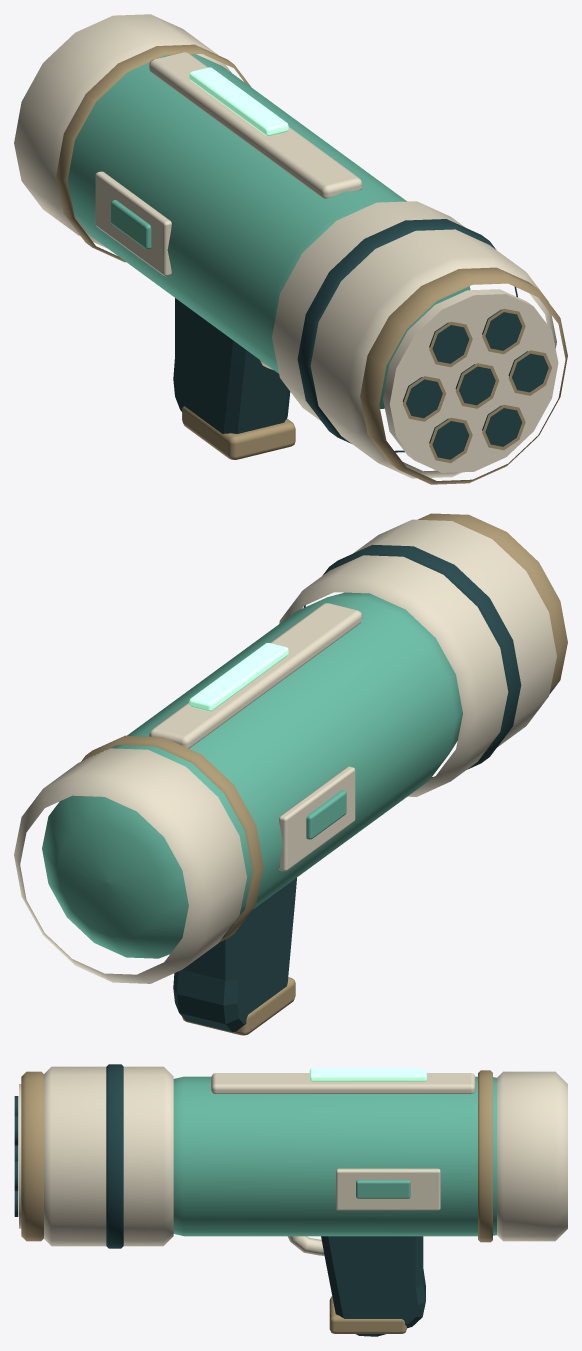
Rendered from steady.glb.
3 renders of one model, top to bottom at view 1: azimuth 30°, elevation 25°; view 2: azimuth 150°, elevation 25°; view 3: azimuth 270°, elevation 25°, orthographic. The views are drawn at different scales.
Parts seen in each view (by area): view 1: ceramic-mesh, mint-mesh, slate-mesh, edge-mesh, glow-mesh; view 2: mint-mesh, ceramic-mesh, slate-mesh, edge-mesh, glow-mesh; view 3: mint-mesh, ceramic-mesh, slate-mesh, edge-mesh, glow-mesh.
Part boxes in pixels (box(x1,y1,x2,y2)): ceramic-mesh: box(14, 14, 558, 478); mint-mesh: box(67, 54, 470, 408); slate-mesh: box(173, 219, 548, 459); edge-mesh: box(56, 44, 567, 484); glow-mesh: box(189, 67, 288, 135); mint-mesh: box(42, 592, 462, 958); ceramic-mesh: box(14, 519, 556, 983); slate-mesh: box(173, 544, 521, 1032); edge-mesh: box(81, 513, 567, 1035); glow-mesh: box(189, 643, 288, 711); mint-mesh: box(173, 1076, 496, 1236); ceramic-mesh: box(19, 1066, 567, 1255); slate-mesh: box(14, 1064, 425, 1336); edge-mesh: box(21, 1070, 492, 1333); glow-mesh: box(309, 1068, 426, 1081).
Bounding box in the file's own units: 0.074 × 0.1135 × 0.222.
